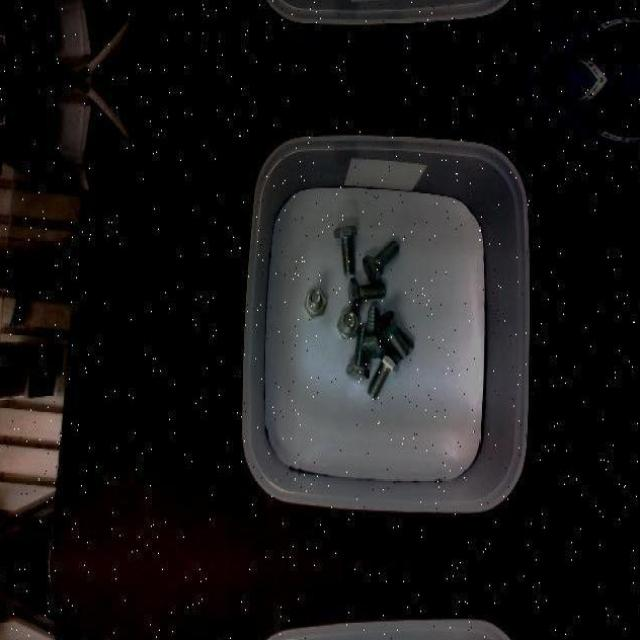screw: (374, 310, 408, 360), (363, 239, 399, 284), (367, 352, 399, 398), (333, 224, 358, 274), (348, 276, 386, 308), (336, 309, 361, 340), (304, 286, 326, 316)
